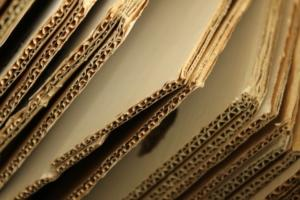cardboard: (0, 0, 299, 198)
